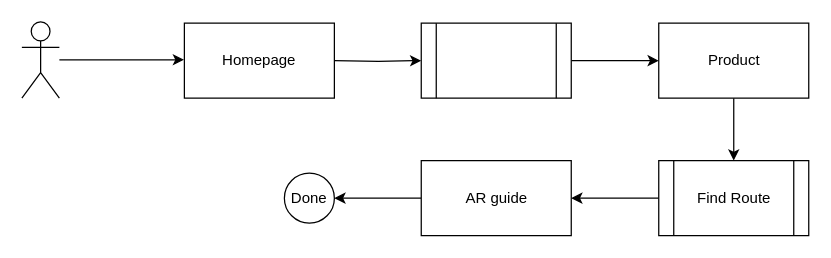
The diagram is 831 pixels wide and 258 high, and some of its shapes have lost their labels. The centre of each missing label's shape, as x and y in pixels:
Search: pixel 495 60
User: pixel 40 59
